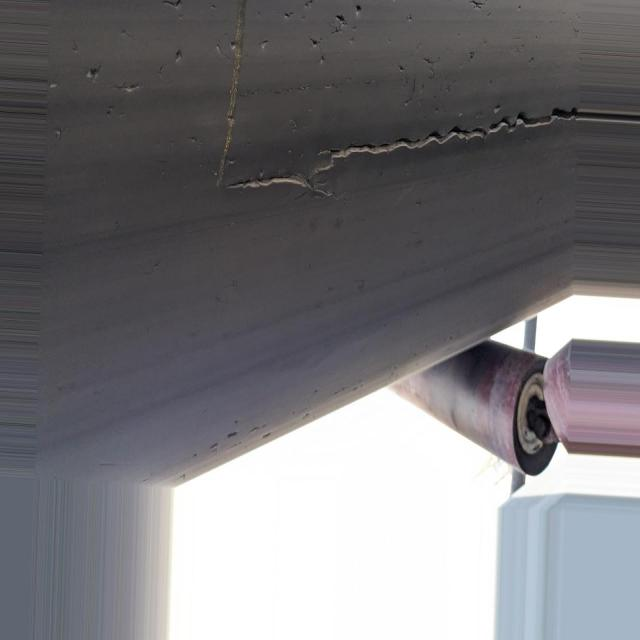Puncture: (70, 54, 175, 103), (305, 3, 370, 55)
Roller: (390, 350, 556, 475)
Tear: (213, 0, 640, 194)
